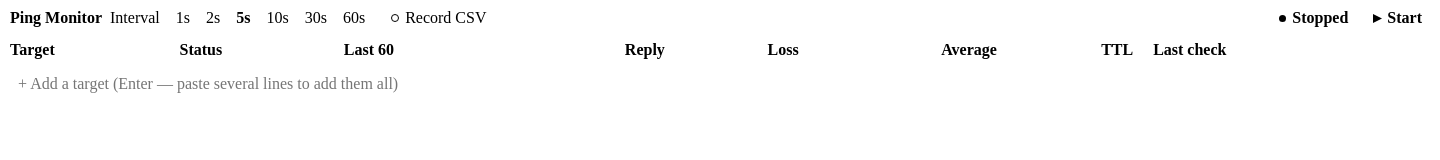
Test: PingMonitorPane › stops and goes back to Stopped
Type "192.0.2.1" into the field labelled "Add a target" at (720,84), box [10,70,1430,98]
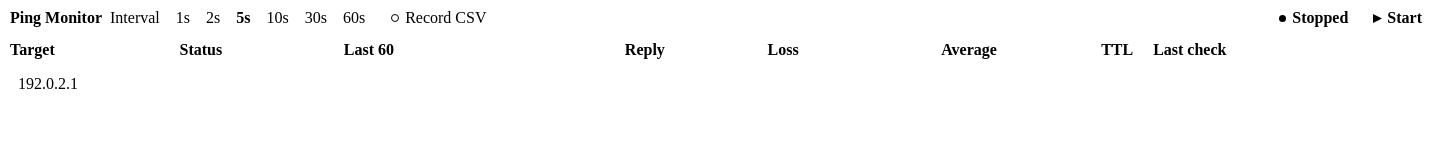
Press Enter in the field named "Add a target", box [10,70,1430,98]
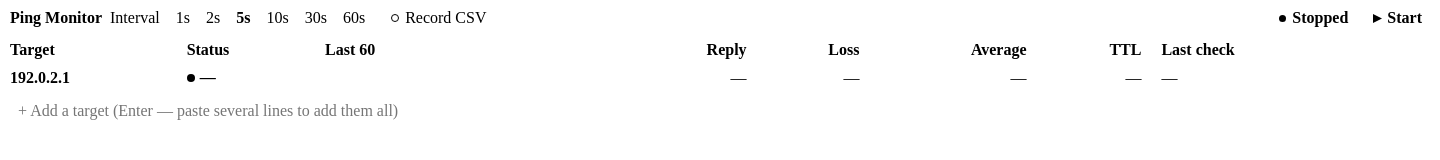
Click the button "Start" at (1398,18), box [1365,6,1430,30]
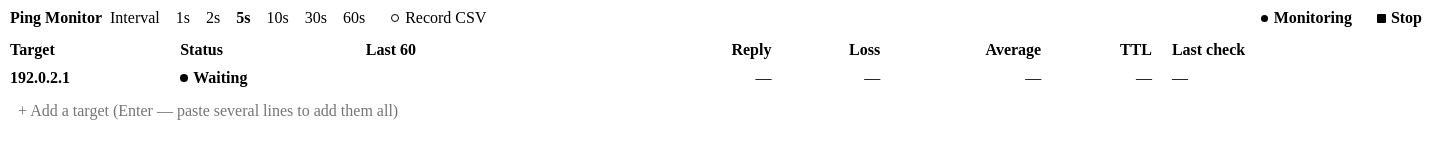
Expected: the button "Stop" is shown
Click the button "Stop" at (1399,18), box [1369,6,1430,30]
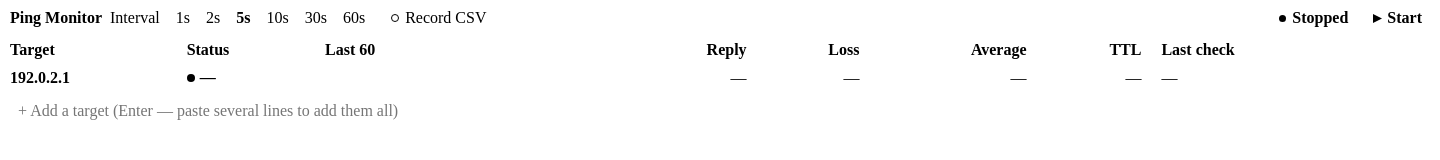
Expected: the message reads "Stopped", [1292,9,1348,26]
